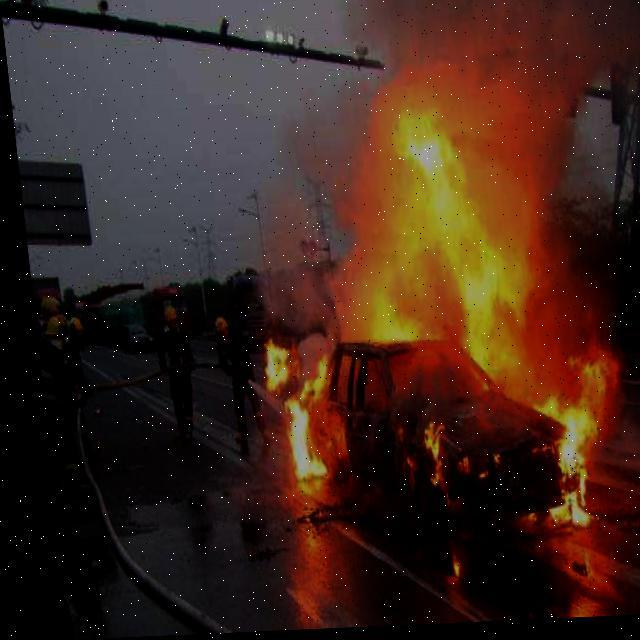Fire: (222, 99, 614, 562)
